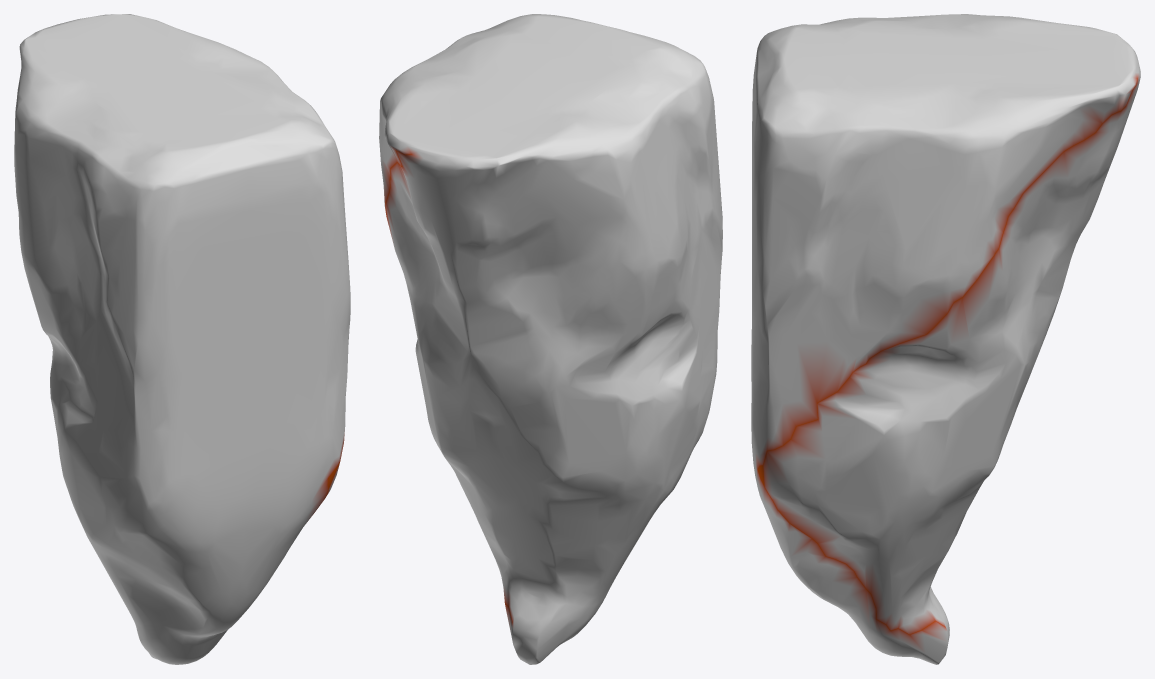
Rendered from cliff.fbx.
3 views of the same model, side by side, from view 1: azimuth 30°, elevation 25°; view 2: azimuth 150°, elevation 25°; view 3: azimuth 270°, elevation 25° (orthographic). The views are drawn at different scales.
Visible parts, largest first — view 1: PM3D_Cube3D1_SeamsColor; view 2: PM3D_Cube3D1_SeamsColor; view 3: PM3D_Cube3D1_SeamsColor.
Boxes of the visible parts, <box> form: PM3D_Cube3D1_SeamsColor: <box>14,14,350,664</box>; PM3D_Cube3D1_SeamsColor: <box>379,14,722,664</box>; PM3D_Cube3D1_SeamsColor: <box>751,14,1140,664</box>.
Size of the model in its own units: 4.88 by 10.1 by 5.9.
